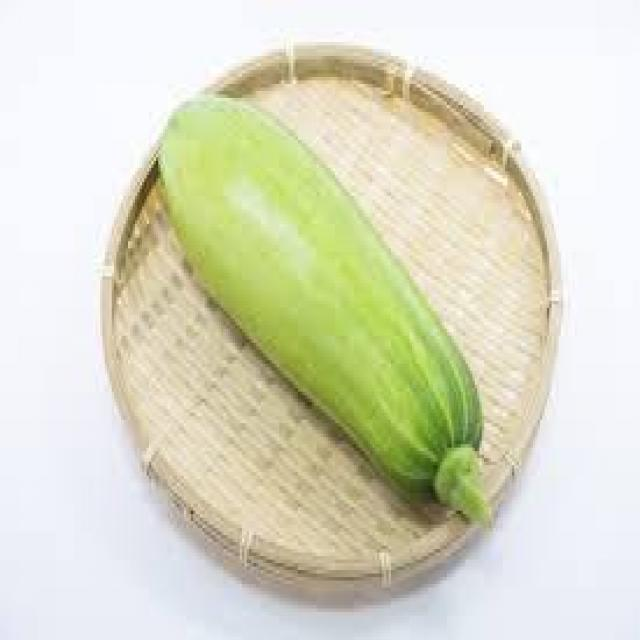zucchini: (161, 98, 491, 526)
